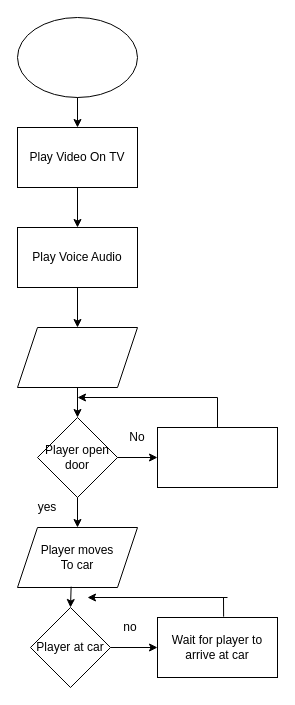
Image size: 295x705. Some labels were removed from this diagram. The shapes that lost their labels are listed below. From the top down, each one's box as (x1, y1, x2, y2) in pixels, then its label:
(16, 16, 138, 98): Start First Scene
(16, 326, 138, 388): Player moves to Door
(156, 426, 278, 488): Wait for player to open door
